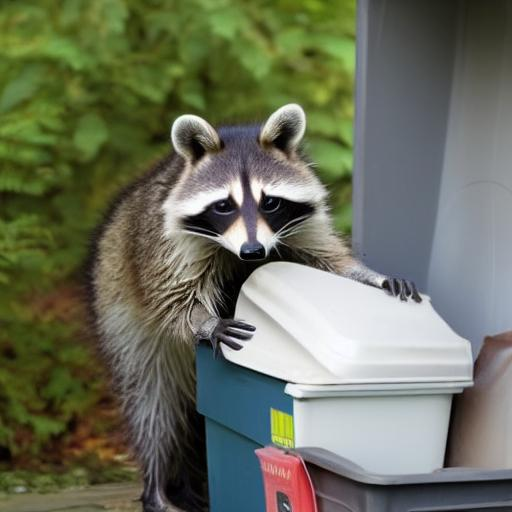raccoon: (82, 98, 354, 488)
